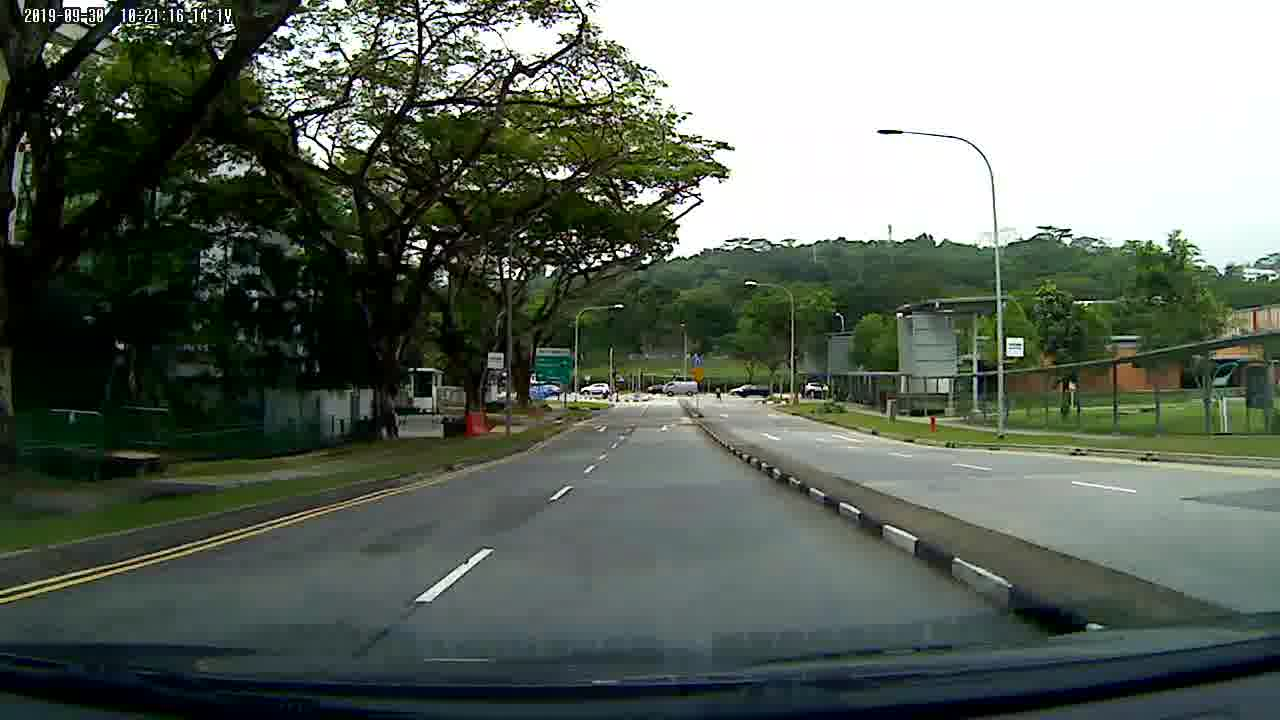car: (579, 382, 612, 398)
